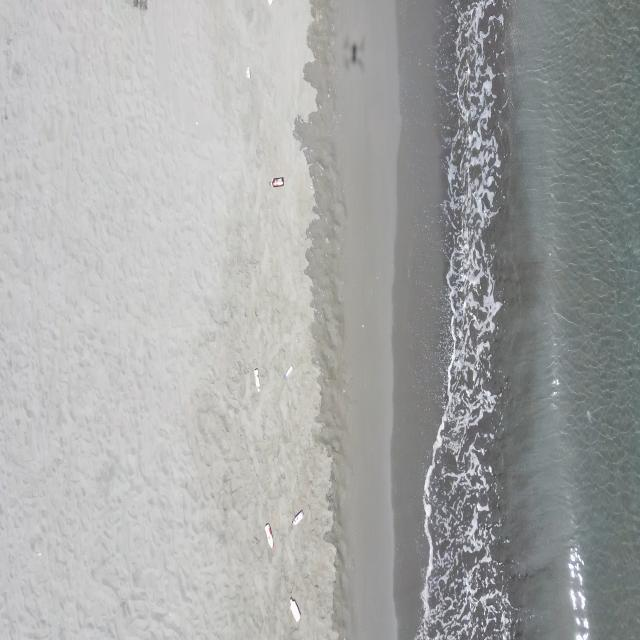Garbage: (289, 597, 300, 622), (264, 524, 272, 547), (292, 510, 303, 524), (253, 367, 259, 390), (283, 364, 292, 377), (272, 176, 283, 186), (244, 66, 249, 77)
